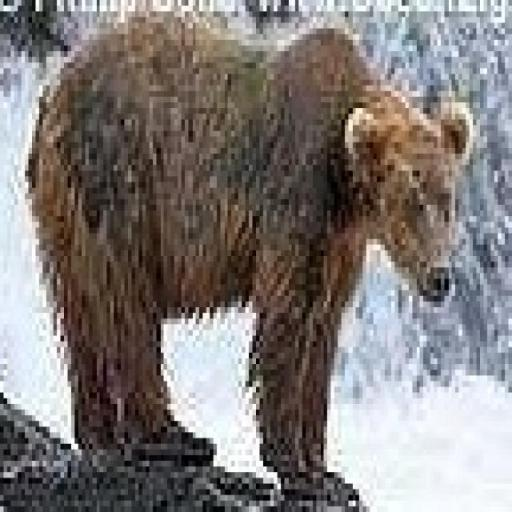Bear: (21, 6, 473, 506)
